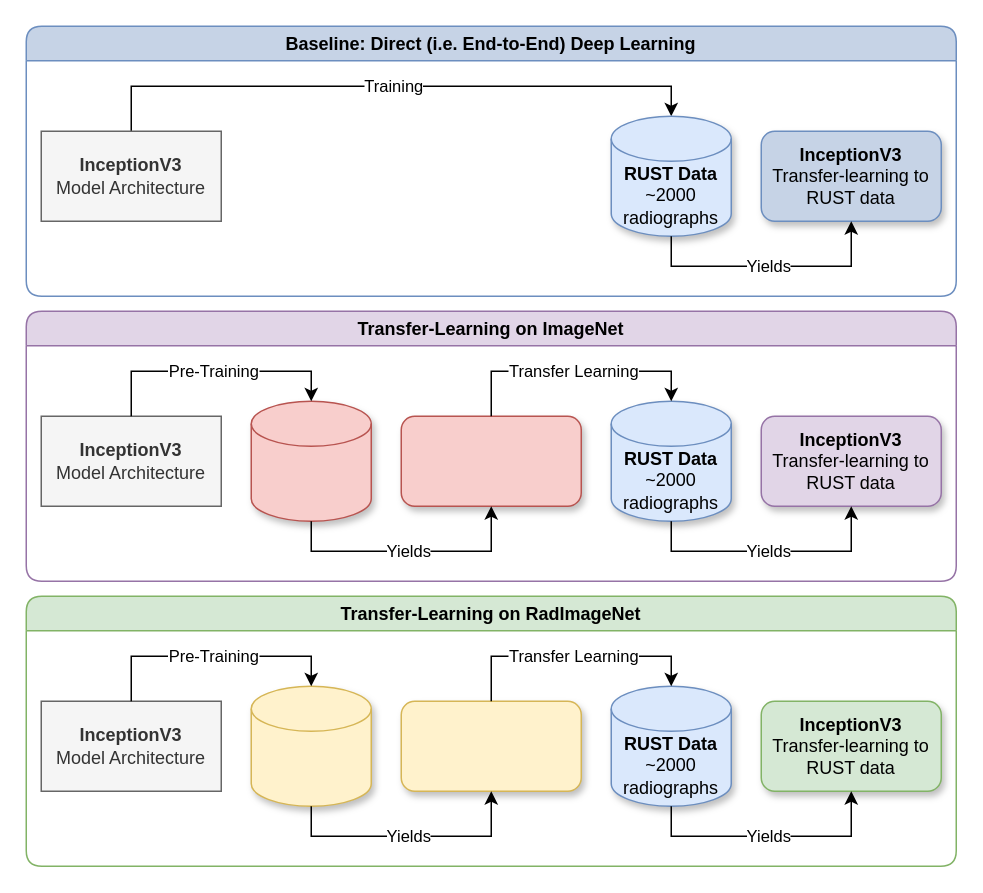
Image size: 983x893. Some labels were removed from this diagram. The centre of each missing label's shape, as x and y in pixels:
"ImageNet ~14.0 million images" goes at point (312, 463).
"InceptionV3 Trained on ImageNet" goes at point (492, 463).
"InceptionV3 Trained on RadImageNet" goes at point (492, 748).
"RadImageNet ~5.0 million radiographs" goes at point (312, 748).
